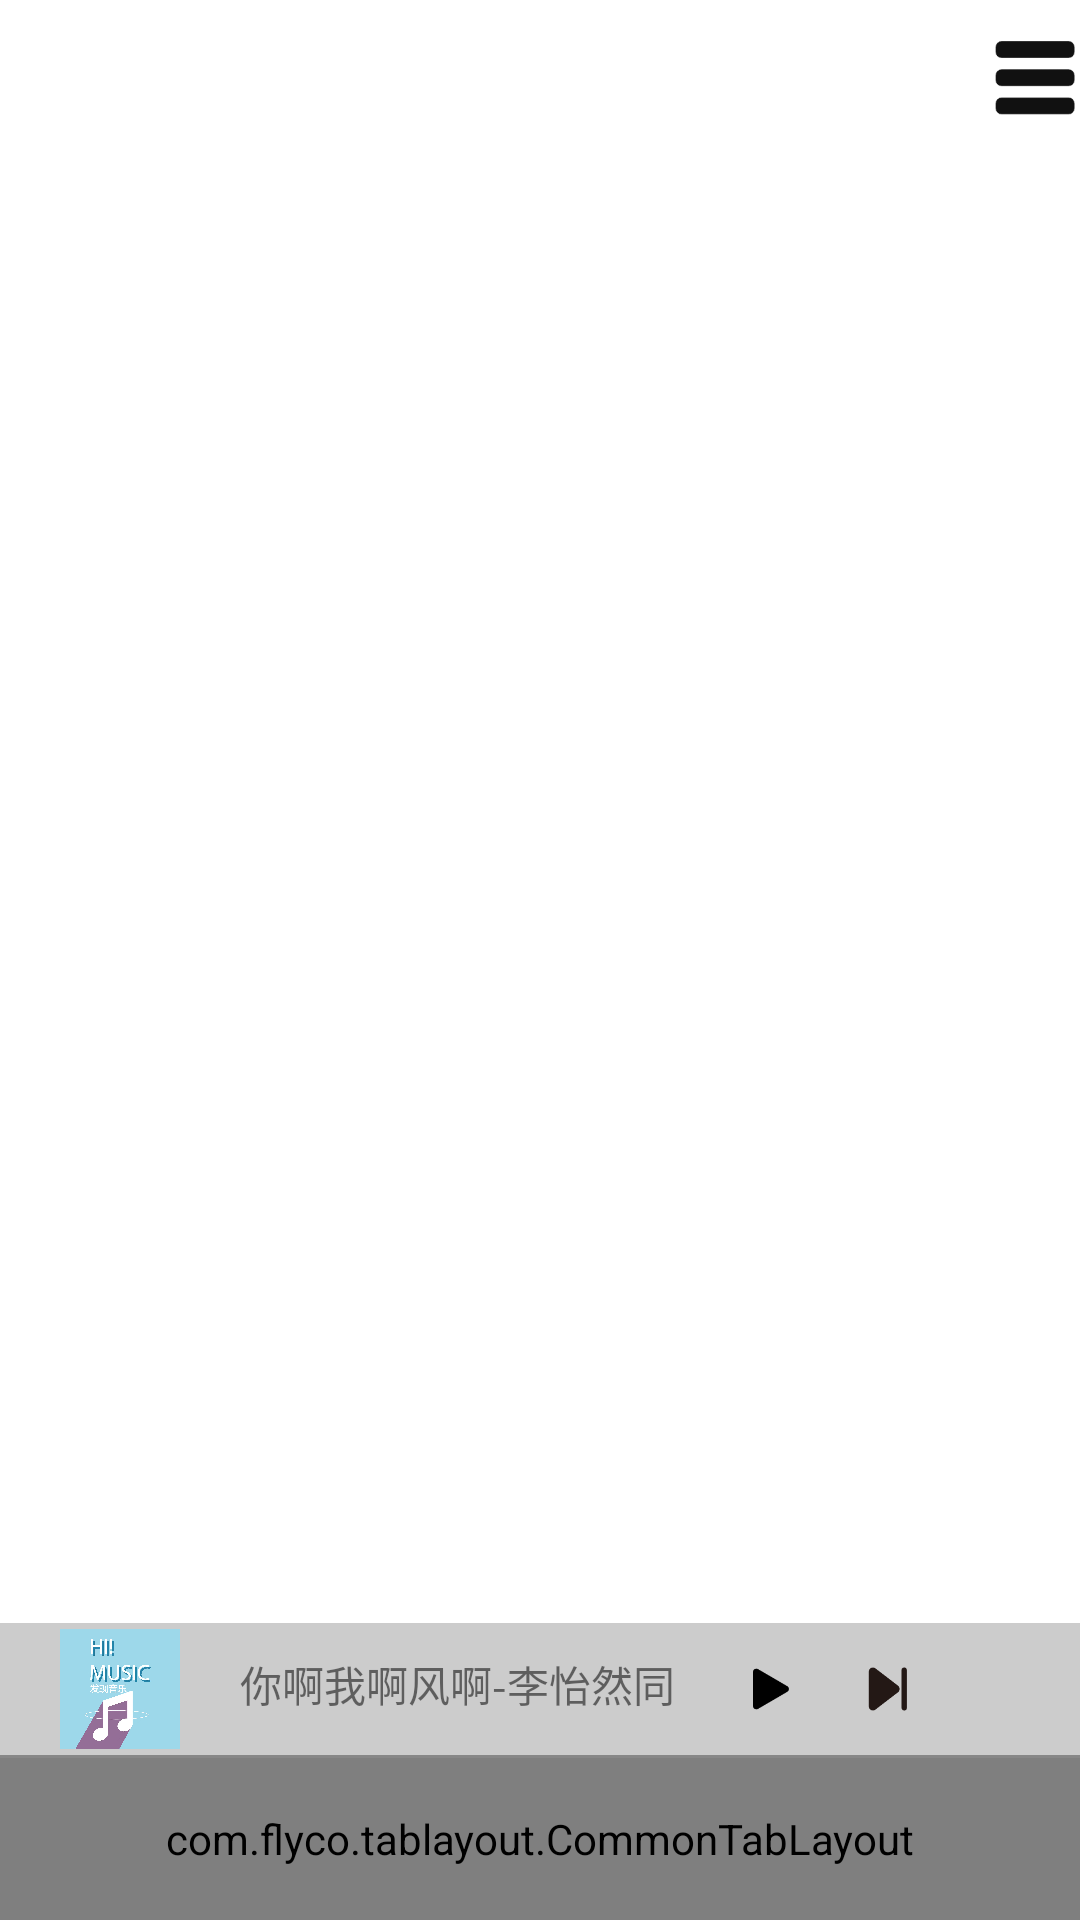

Where to tap for icons on this 1080x1920 app screen, as (x,y):
liebiao: (1035,78)
next play: (887,1689)
play: (771,1689)
